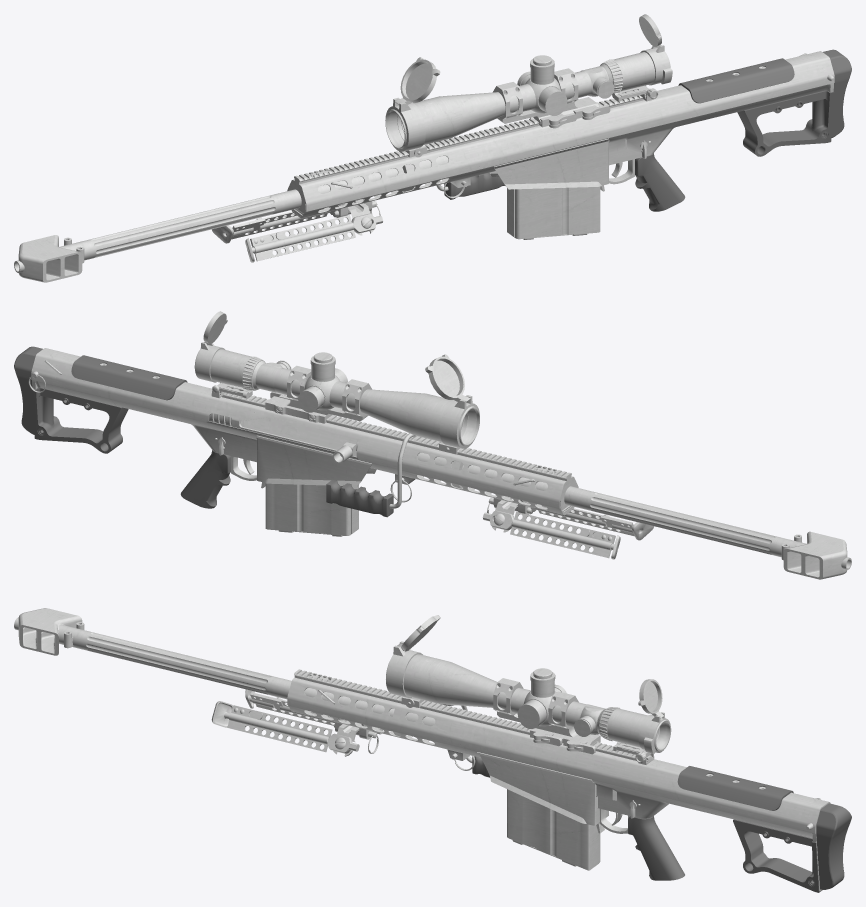
3 renders of one model, top to bottom at view 1: azimuth 30°, elevation 25°; view 2: azimuth 150°, elevation 25°; view 3: azimuth 330°, elevation 25°, orthographic.
Visible parts, largest first — view 1: Meshesgooglemeshermesher1, MeshesgunkKitMomentc14scope002c14scope0011, Barrel1, Mag1, Stock1, Meshesgooglemesher002mesher0021, Meshesgooglemesher006mesher0061, Meshpart1, Meshesgooglemesher005mesher0051, MeshesgunkKitMomentc14scope003c14scope0021, Meshesgooglemesher004mesher0041, Meshesgooglemesher007mesher0071; view 2: Meshesgooglemeshermesher1, MeshesgunkKitMomentc14scope002c14scope0011, Barrel1, Stock1, Meshesgooglemesher002mesher0021, Mag1, Meshesgooglemesher005mesher0051, Meshpart1, Bolt1, Meshesgooglemesher004mesher0041, Meshesgooglemesher006mesher0061, MeshesgunkKitMomentc14scope003c14scope0021 (+2 smaller); view 3: Meshesgooglemeshermesher1, MeshesgunkKitMomentc14scope002c14scope0011, Barrel1, Stock1, Meshesgooglemesher002mesher0021, Mag1, Meshesgooglemesher006mesher0061, Meshpart1, Meshesgooglemesher005mesher0051, MeshesgunkKitMomentc14scope004c14scope0031, Meshesgooglemesher007mesher0071.
Part boxes in pixels (x1=…): Meshesgooglemeshermesher1: x1=287, y1=51, x2=834, y2=218; MeshesgunkKitMomentc14scope002c14scope0011: x1=385, y1=45, x2=672, y2=151; Barrel1: x1=14, y1=168, x2=403, y2=282; Mag1: x1=507, y1=186, x2=600, y2=239; Stock1: x1=737, y1=49, x2=851, y2=156; Meshesgooglemesher002mesher0021: x1=635, y1=58, x2=794, y2=211; Meshesgooglemesher006mesher0061: x1=245, y1=213, x2=382, y2=262; Meshpart1: x1=492, y1=68, x2=610, y2=128; Meshesgooglemesher005mesher0051: x1=212, y1=207, x2=334, y2=243; MeshesgunkKitMomentc14scope003c14scope0021: x1=395, y1=57, x2=440, y2=104; Meshesgooglemesher004mesher0041: x1=444, y1=173, x2=505, y2=199; Meshesgooglemesher007mesher0071: x1=333, y1=198, x2=380, y2=235; Meshesgooglemeshermesher1: x1=28, y1=348, x2=578, y2=515; MeshesgunkKitMomentc14scope002c14scope0011: x1=194, y1=342, x2=479, y2=448; Barrel1: x1=462, y1=465, x2=851, y2=579; Stock1: x1=14, y1=346, x2=128, y2=453; Meshesgooglemesher002mesher0021: x1=71, y1=355, x2=230, y2=508; Mag1: x1=265, y1=483, x2=358, y2=536; Meshesgooglemesher005mesher0051: x1=483, y1=510, x2=620, y2=559; Meshpart1: x1=265, y1=365, x2=372, y2=423; Bolt1: x1=231, y1=417, x2=358, y2=463; Meshesgooglemesher004mesher0041: x1=326, y1=479, x2=393, y2=517; Meshesgooglemesher006mesher0061: x1=531, y1=504, x2=653, y2=540; MeshesgunkKitMomentc14scope003c14scope0021: x1=425, y1=354, x2=470, y2=402; Meshesgooglemeshermesher1: x1=287, y1=669, x2=830, y2=890; MeshesgunkKitMomentc14scope002c14scope0011: x1=386, y1=641, x2=671, y2=753; Barrel1: x1=14, y1=608, x2=394, y2=716; Stock1: x1=733, y1=803, x2=851, y2=892; Meshesgooglemesher002mesher0021: x1=628, y1=766, x2=793, y2=880; Mag1: x1=507, y1=789, x2=600, y2=870; Meshesgooglemesher006mesher0061: x1=211, y1=701, x2=359, y2=753; Meshpart1: x1=493, y1=678, x2=600, y2=754; Meshesgooglemesher005mesher0051: x1=245, y1=689, x2=382, y2=734; MeshesgunkKitMomentc14scope004c14scope0031: x1=638, y1=679, x2=663, y2=718; Meshesgooglemesher007mesher0071: x1=333, y1=720, x2=378, y2=756.
Size of the model in its own units: 7.97 by 1.91 by 0.693.
Materials: 7 (7 with a texture image).
